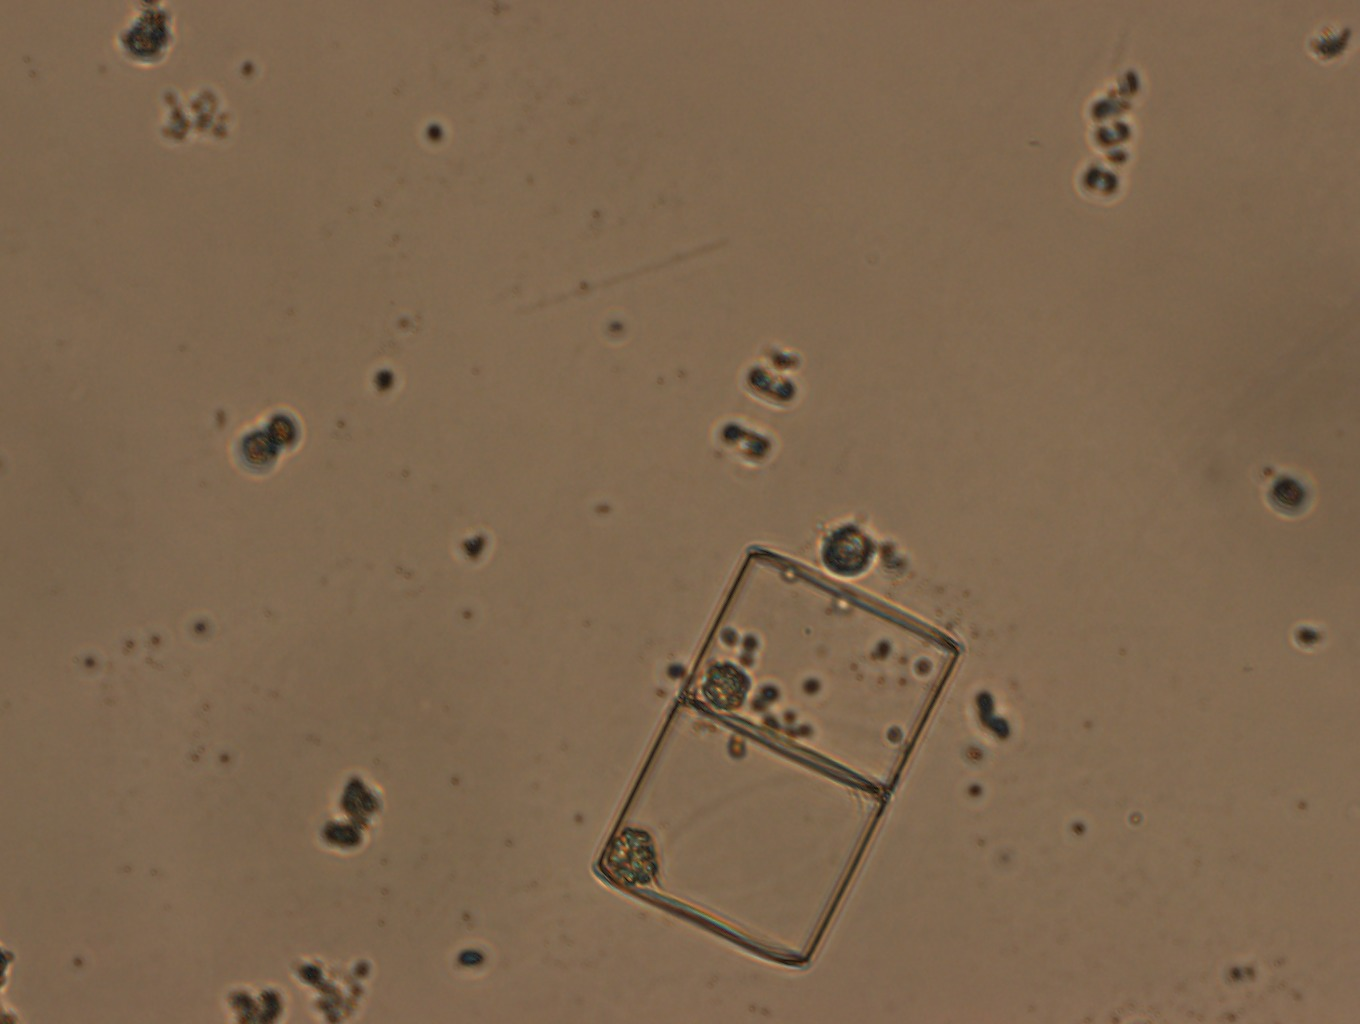guinardia flaccida: (593, 542, 963, 969)
